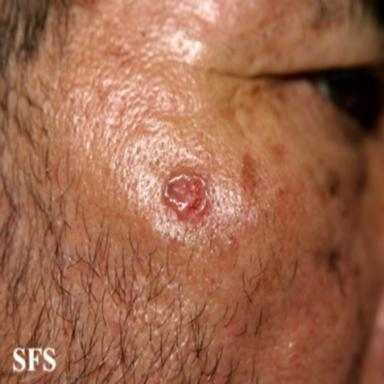basal-cell-carcinoma: (161, 171, 211, 223)
